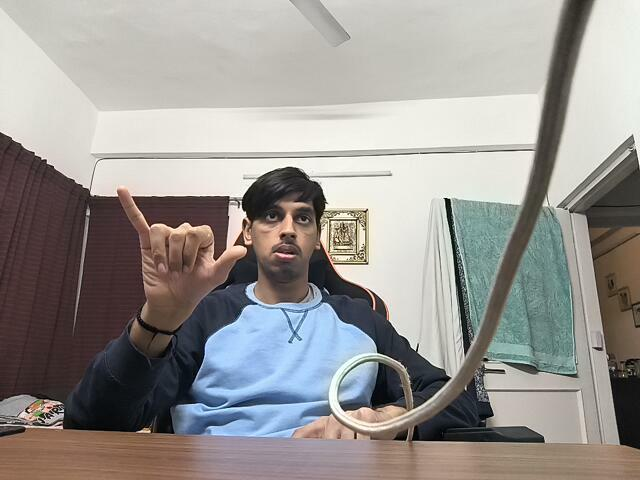FLIP: (104, 176, 249, 312)
